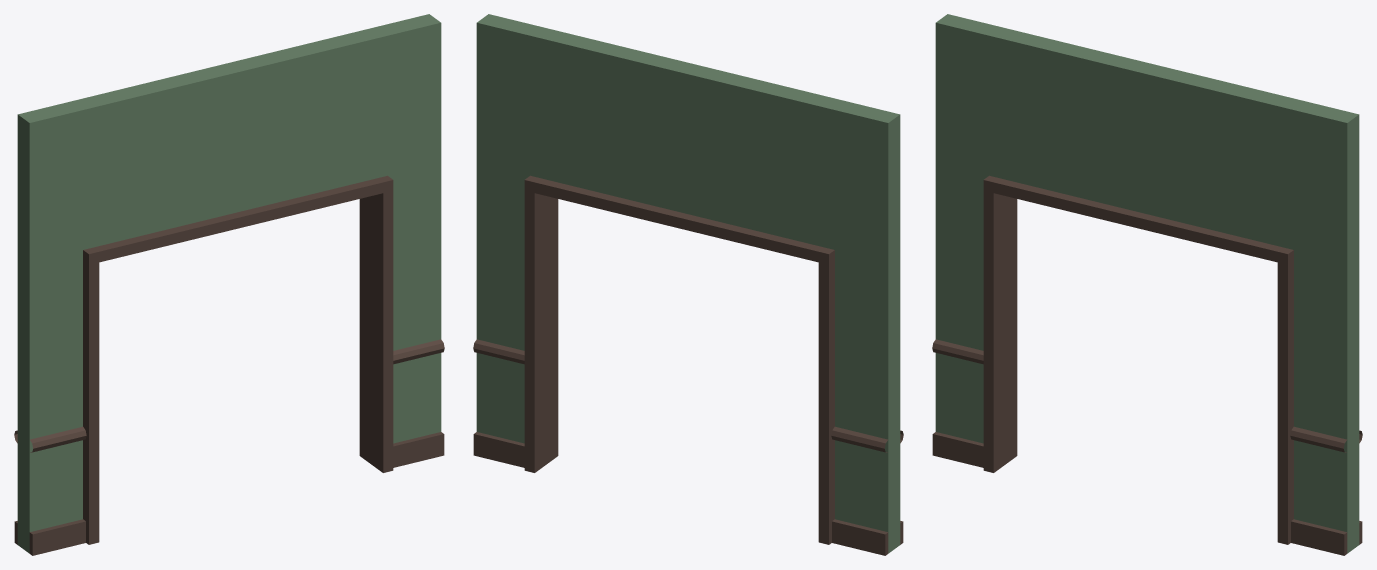
Rendered from h_wall_2_doorFrame2_4_2.fbx.
3 views of the same model, side by side, from view 1: azimuth 30°, elevation 25°; view 2: azimuth 150°, elevation 25°; view 3: azimuth 330°, elevation 25° (orthographic).
Visible parts, largest first — view 1: Cube; view 2: Cube; view 3: Cube.
Part boxes in pixels (box(x1,y1,x2,y2)): Cube: box(14, 14, 444, 555); Cube: box(473, 14, 903, 555); Cube: box(932, 14, 1362, 555).
Bounding box in the file's own units: 400 × 400 × 39.37.
